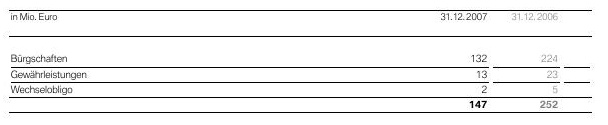table: (0, 0, 608, 125)
